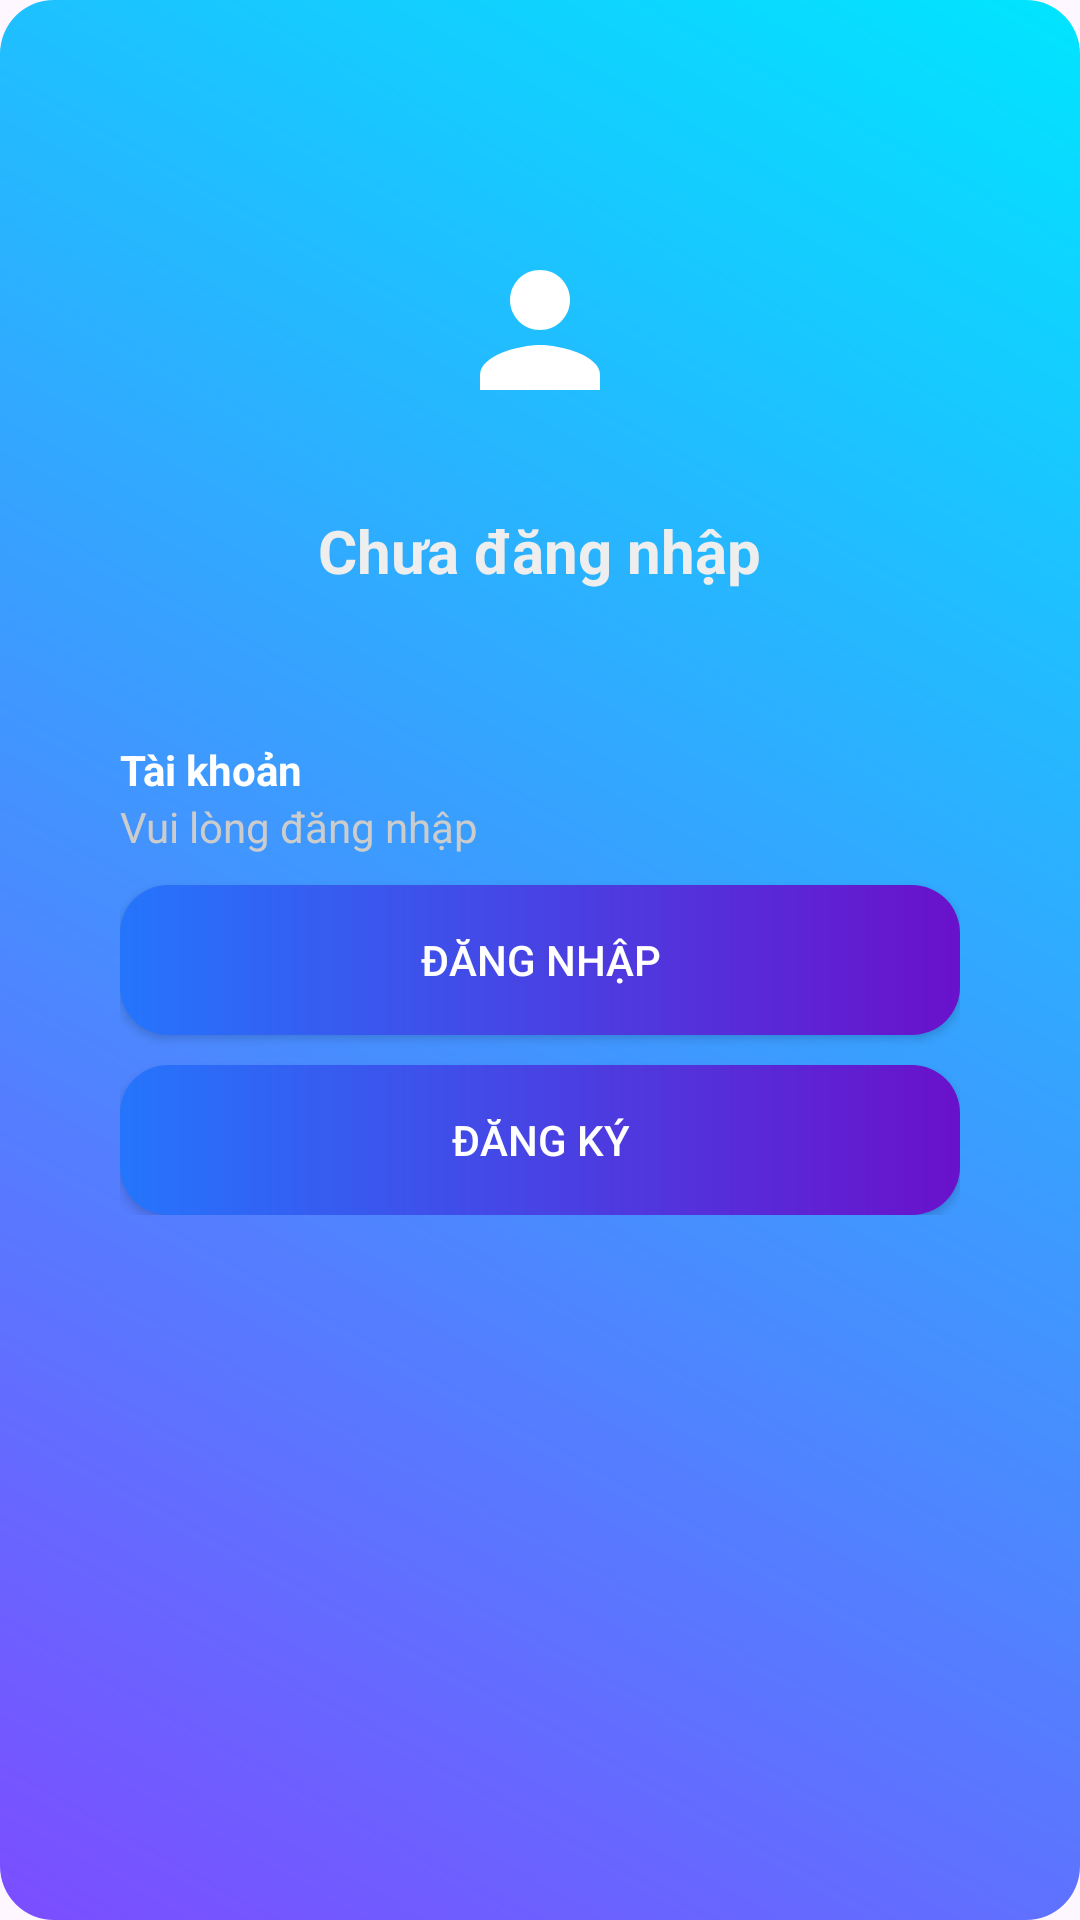

Icon bounding boxes for this 1080×1920 phone screenshot, format region(x1, y1, x2, y2):
user: region(480, 270, 600, 390)
